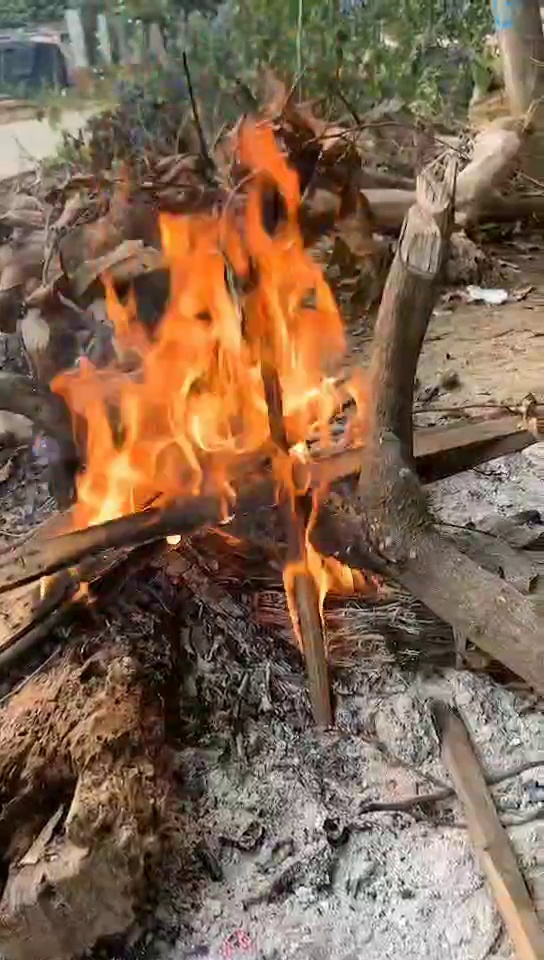fire: (53, 238, 352, 560)
